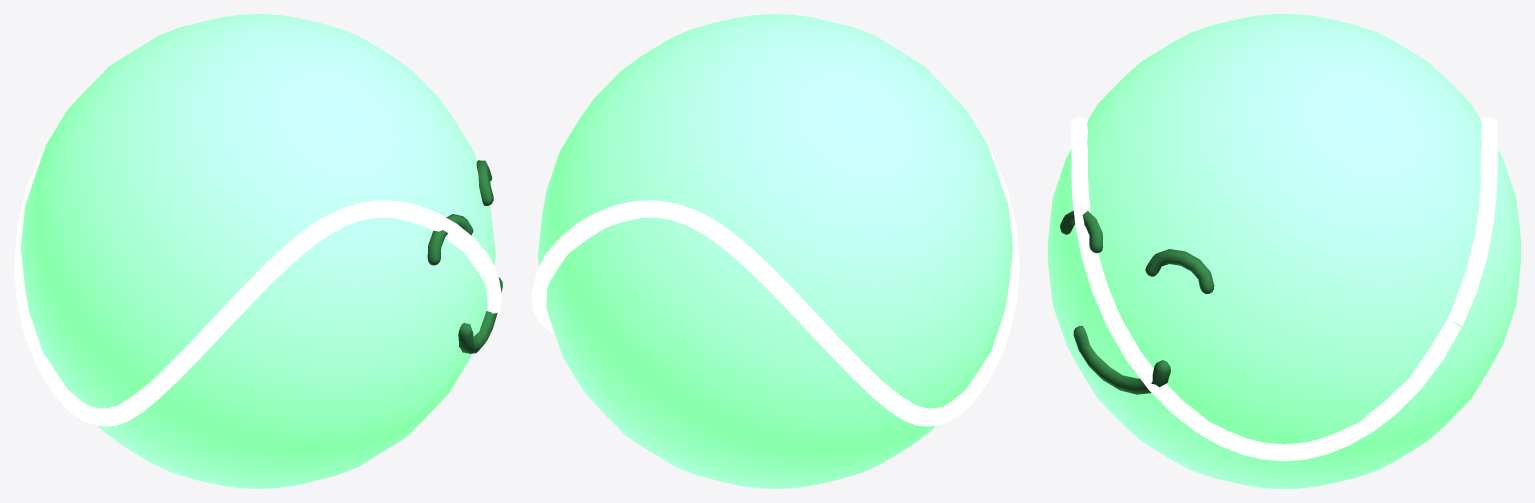
File: green.glb
The picture shows the model from 3 angles, left to right: view 1: azimuth 30°, elevation 25°; view 2: azimuth 150°, elevation 25°; view 3: azimuth 270°, elevation 25°; orthographic projection.
Visible parts, largest first — view 1: green; view 2: green; view 3: green.
Part boxes in pixels (left/top/right/bottom): green: left=14, top=14, right=502, bottom=488; green: left=531, top=14, right=1019, bottom=488; green: left=1048, top=14, right=1520, bottom=488.
Bounding box in the file's own units: 0.4372 × 0.44 × 0.4372.
